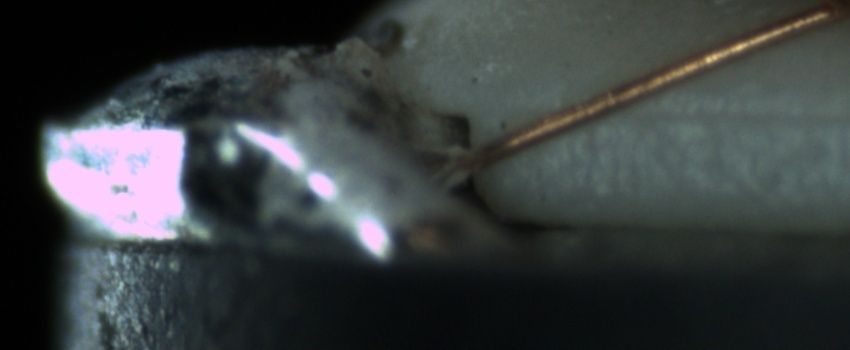CL: (776, 1, 845, 32)
DL: (575, 79, 843, 147)
